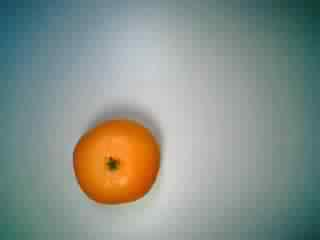orange: (67, 113, 164, 207)
